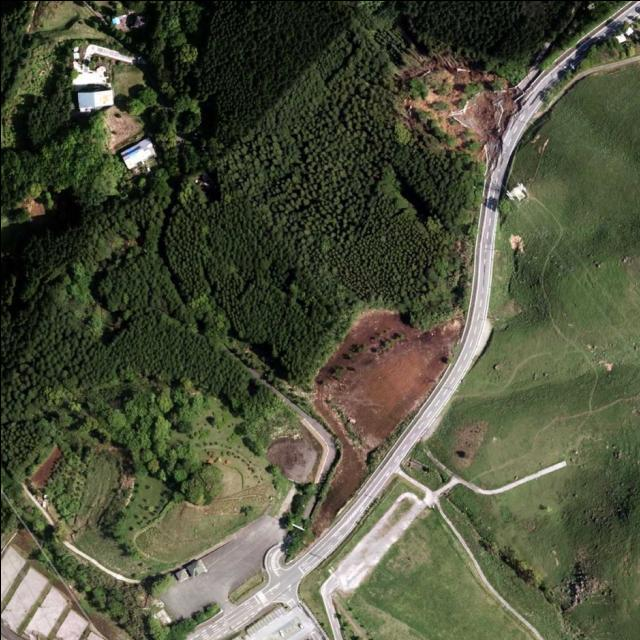landslide: (312, 310, 462, 534)
